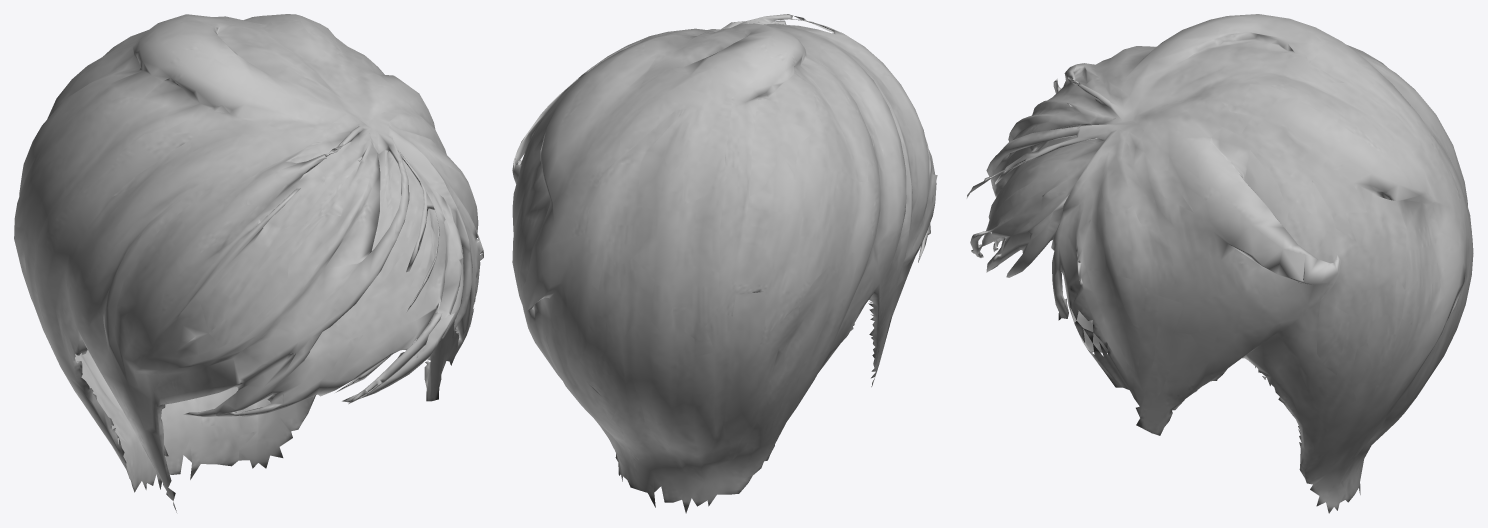
File: hair_pixie.glb
3 views of the same model, side by side, from view 1: azimuth 30°, elevation 25°; view 2: azimuth 150°, elevation 25°; view 3: azimuth 270°, elevation 25° (orthographic). The views are drawn at different scales.
Parts seen in each view (by area): view 1: Hair; view 2: Hair; view 3: Hair.
Part boxes in pixels (x1=…): Hair: x1=14, y1=14, x2=483, y2=512; Hair: x1=512, y1=14, x2=937, y2=513; Hair: x1=966, y1=14, x2=1473, y2=513.
Bounding box in the file's own units: 0.9935 × 1.22 × 1.24.
1 material, 1 textured.
